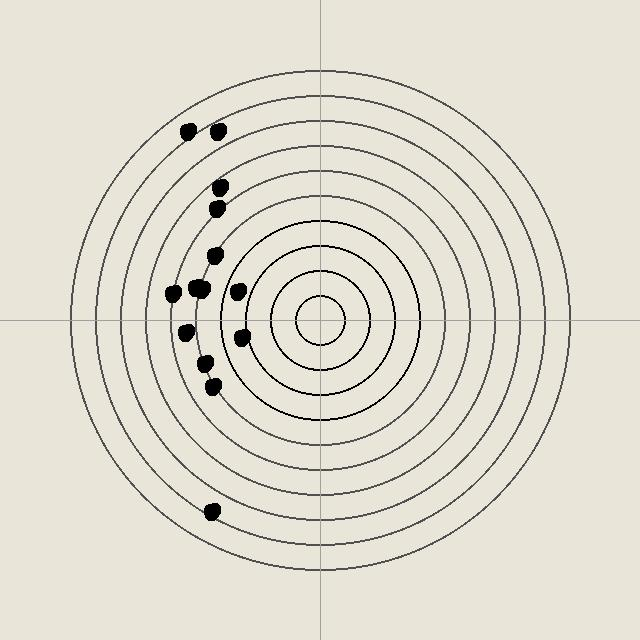vertical_scatter: (202, 376, 222, 396), (201, 501, 221, 521), (191, 279, 211, 299), (209, 177, 229, 197), (231, 327, 251, 347), (207, 121, 227, 141), (162, 283, 182, 303), (204, 245, 224, 265), (227, 281, 247, 301), (206, 198, 226, 218), (177, 121, 197, 141), (194, 353, 214, 373), (175, 322, 195, 342), (185, 277, 205, 297)
